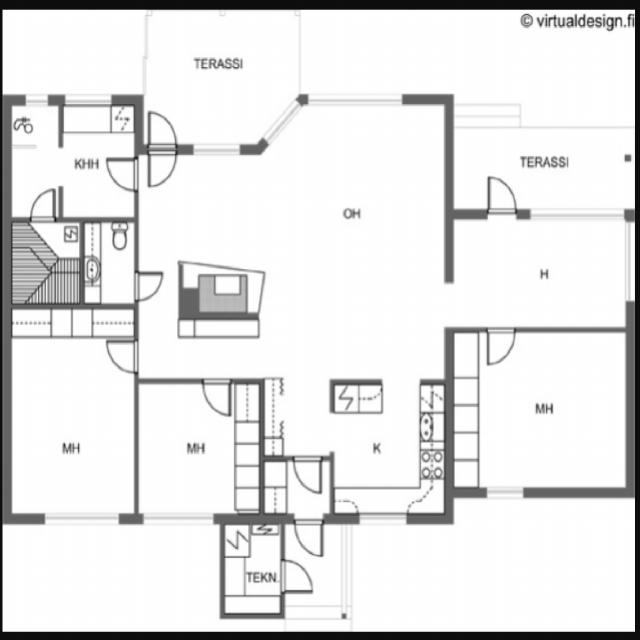door: (488, 177, 516, 219), (149, 144, 176, 187), (149, 112, 176, 154), (295, 513, 321, 554), (203, 378, 230, 414), (108, 341, 138, 372), (488, 327, 514, 362), (294, 456, 320, 491), (108, 160, 138, 190), (280, 560, 310, 590), (31, 190, 54, 222), (135, 274, 161, 299)
